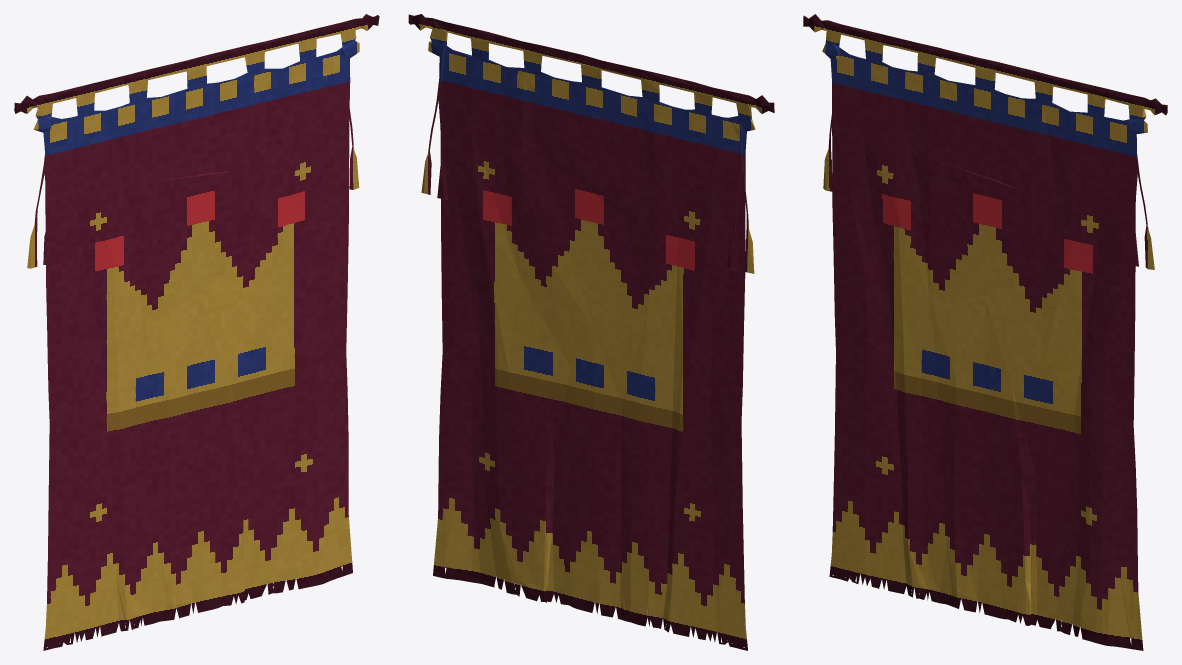
Rendered from sm_wall_rug.glb.
The picture shows the model from 3 angles, left to right: view 1: azimuth 30°, elevation 25°; view 2: azimuth 150°, elevation 25°; view 3: azimuth 330°, elevation 25°; orthographic projection.
Parts seen in each view (by area): view 1: mesh_node; view 2: mesh_node; view 3: mesh_node.
Part boxes in pixels (bbox=[...]): mesh_node: bbox=[14, 14, 379, 650]; mesh_node: bbox=[408, 14, 774, 650]; mesh_node: bbox=[803, 14, 1167, 650].
Bounding box in the file's own units: 1.43 × 2.1 × 0.0509.
Materials: 1 (1 with a texture image).
